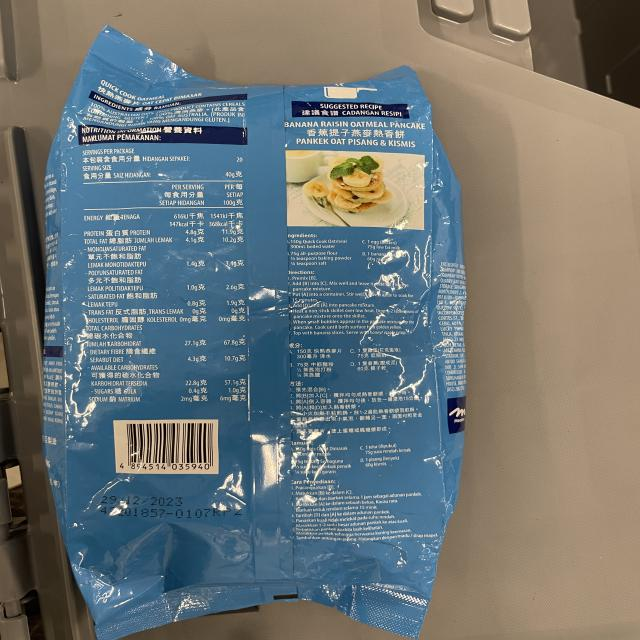object_name: (70, 65, 442, 610)
